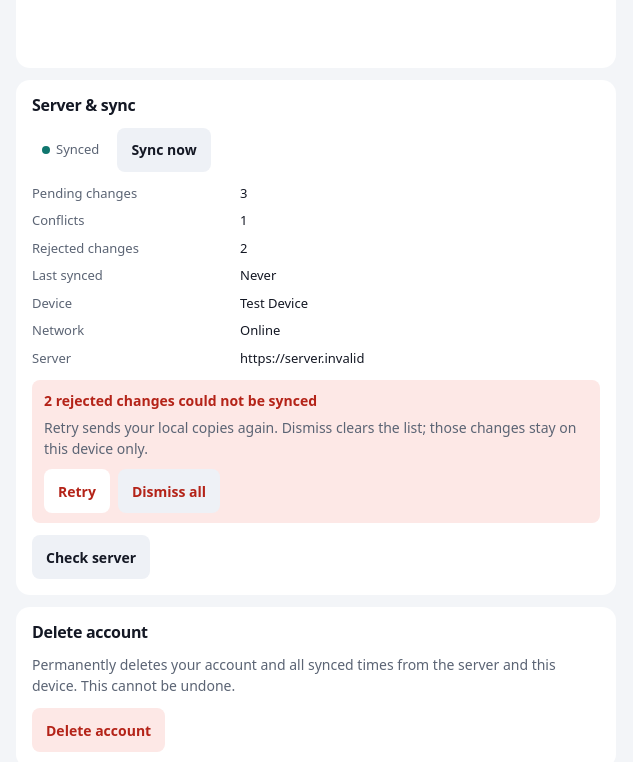
Test case: AccountPage › shows an error when retrying rejected changes fails
(page scrolled)
Click the button "Retry" at x=77, y=491, box [44,469,110,513]
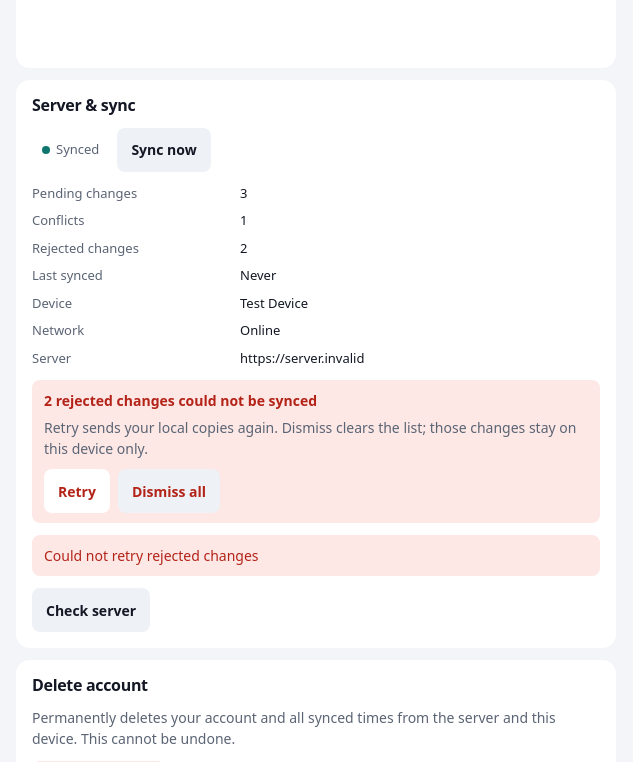
Check: the text "Could not retry rejected changes" is shown, box [32,535,600,576]
